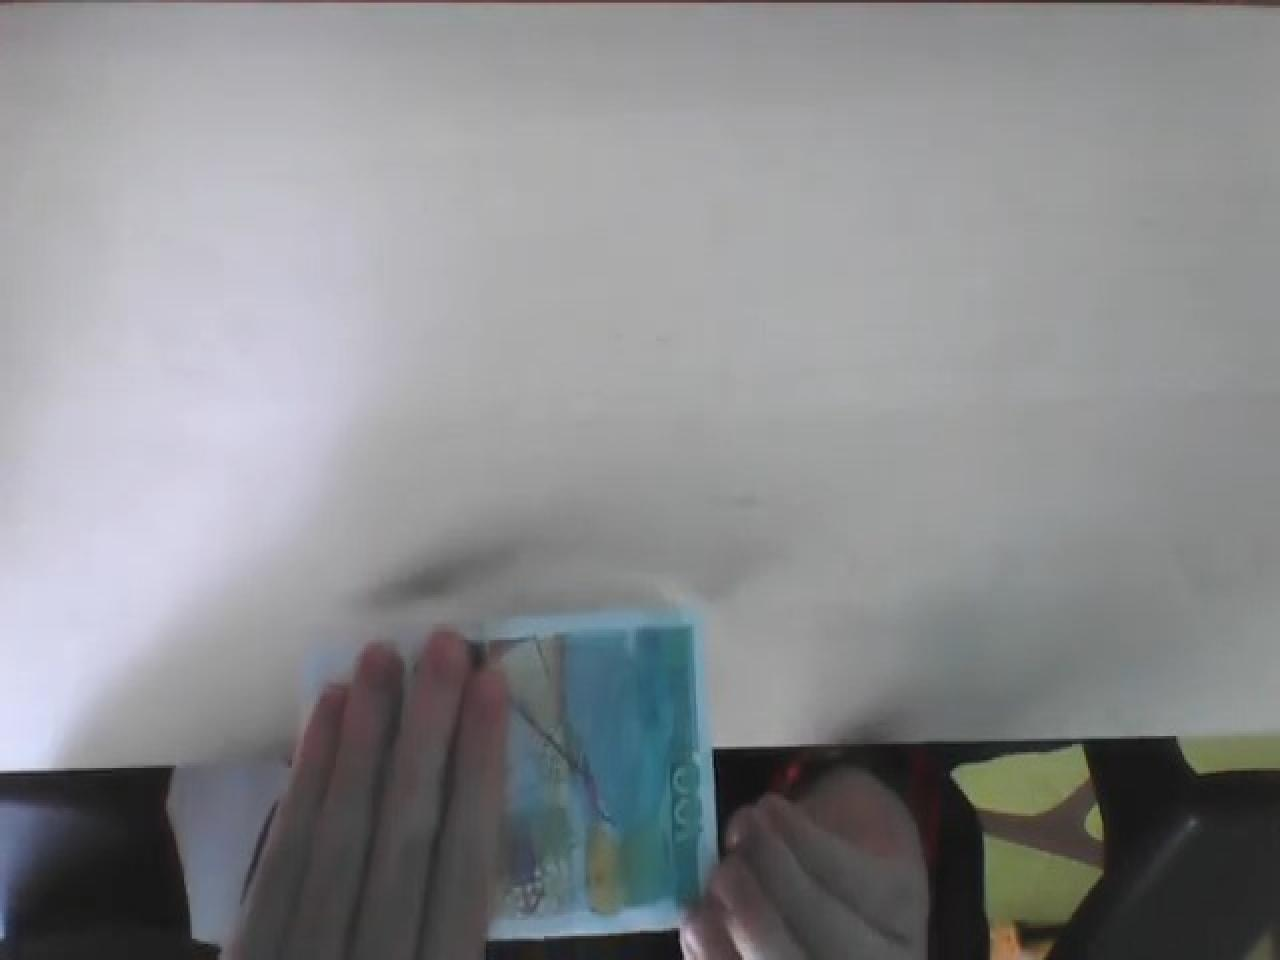100leva: (472, 616, 712, 939)
